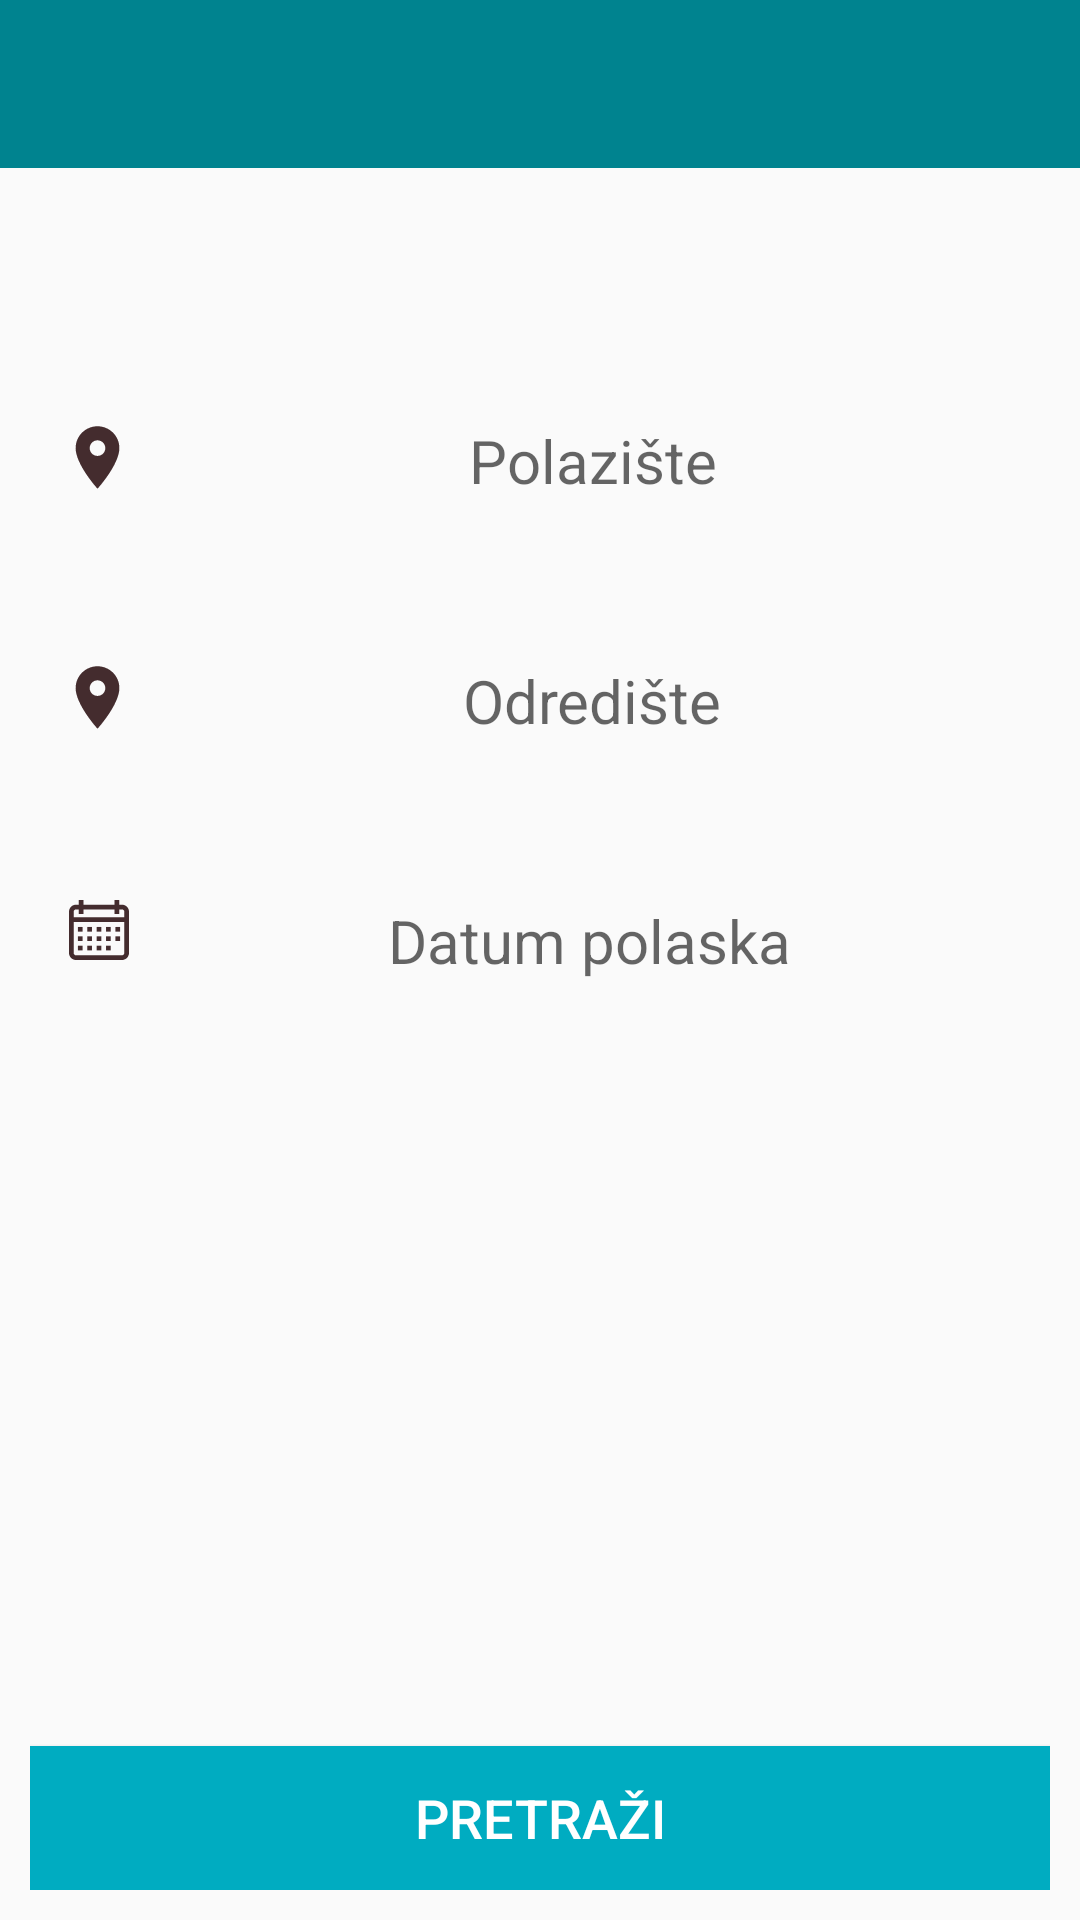

Named icons in this screenshot (1080 x 1920) and their bounding boxes, (x1, y1, x2, y2):
calendar: (69, 900, 129, 960)
location on: (75, 426, 120, 489), (75, 666, 120, 729)
